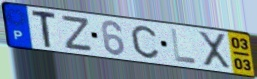6: (100, 19, 127, 57)
C: (129, 24, 161, 60)
L: (169, 28, 199, 66)
T: (31, 10, 59, 49)
X: (196, 30, 233, 71)
Z: (61, 15, 94, 54)
